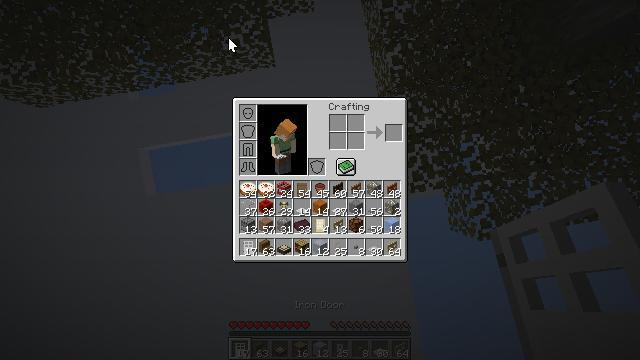cursor: (228, 37, 238, 53)
